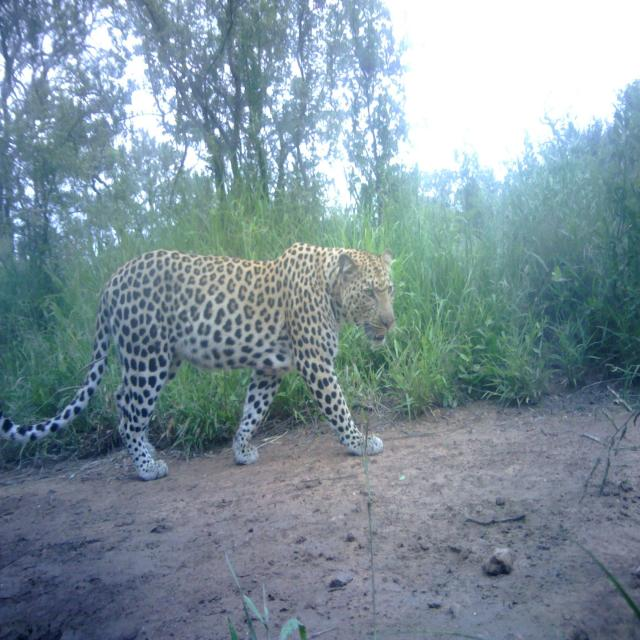Leopard: (12, 234, 401, 495)
